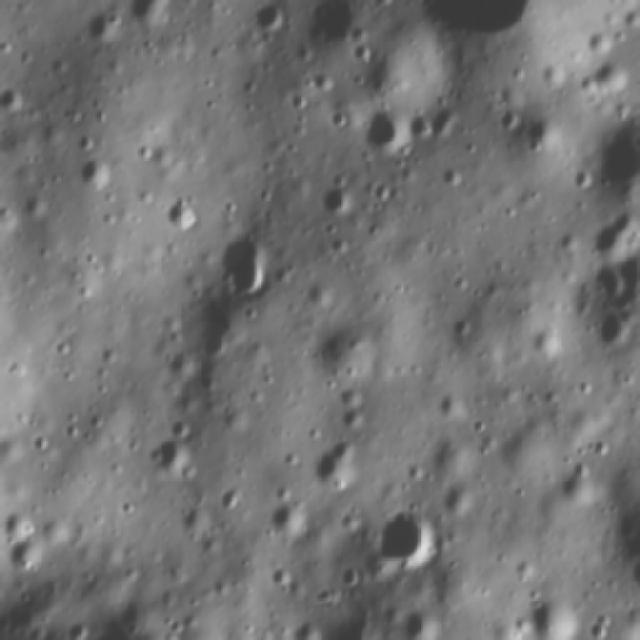crater: (216, 222, 282, 304), (368, 501, 438, 570), (177, 296, 248, 364), (352, 96, 416, 169), (583, 121, 640, 199), (304, 435, 356, 497), (576, 207, 638, 258), (544, 456, 598, 512), (579, 307, 635, 358), (150, 423, 196, 482), (527, 592, 588, 636), (66, 143, 117, 194), (302, 7, 356, 51), (307, 174, 358, 218), (583, 58, 634, 98), (150, 193, 195, 236), (210, 480, 250, 517), (244, 4, 282, 42), (528, 327, 564, 361), (268, 499, 304, 532), (496, 98, 524, 130), (437, 162, 463, 192)
